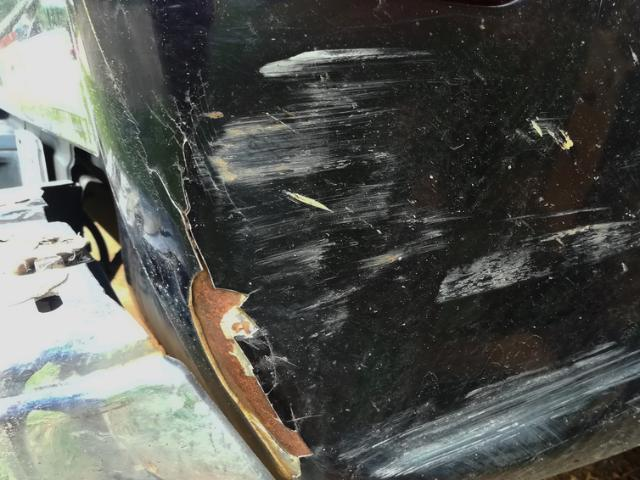Bumper: (109, 7, 640, 451)
